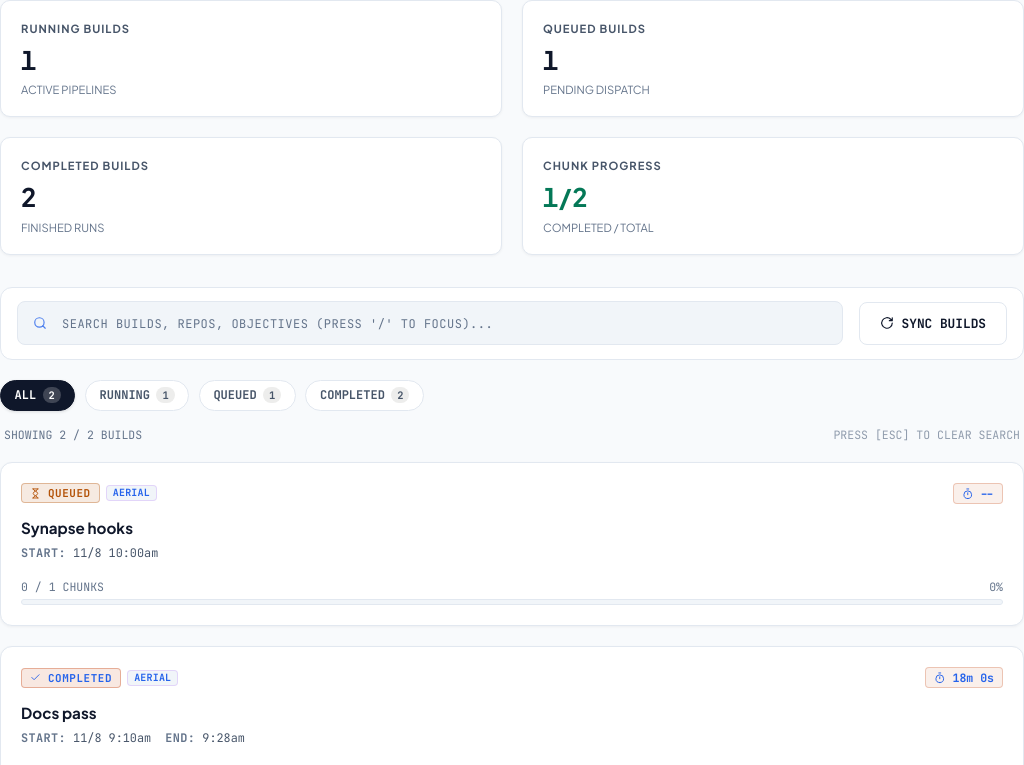
Scenario: BuildsView data › SYNC BUILDS refetches now and records failures
Click the button "SYNC BUILDS" at (933, 323), box [858, 302, 1007, 345]
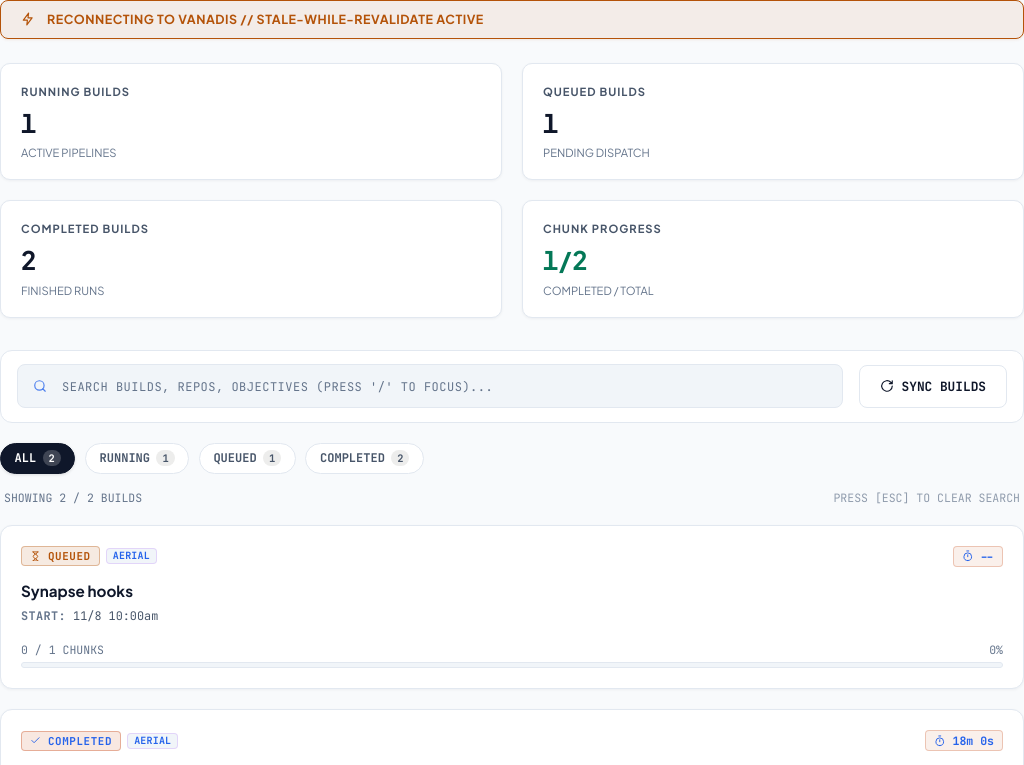
Result: the text "RECONNECTING TO VANADIS // STALE-WHILE-REVALIDATE ACTIVE" is shown at [47, 11, 484, 27]
